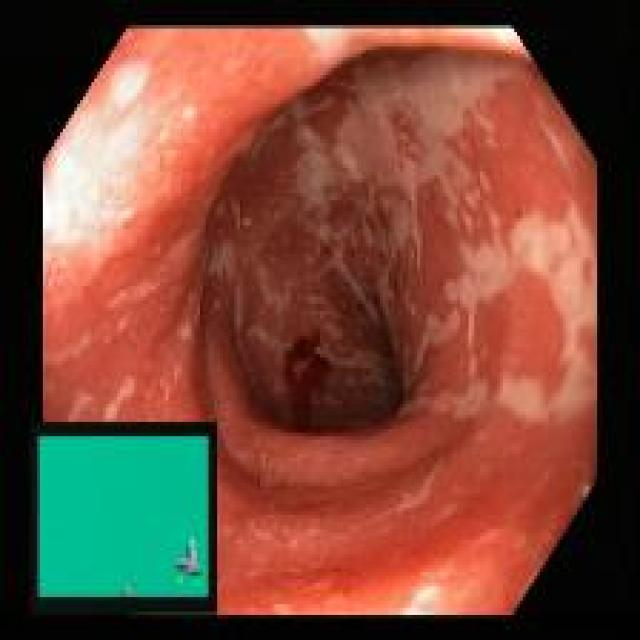ulcerative-colitis: (44, 28, 596, 615)
